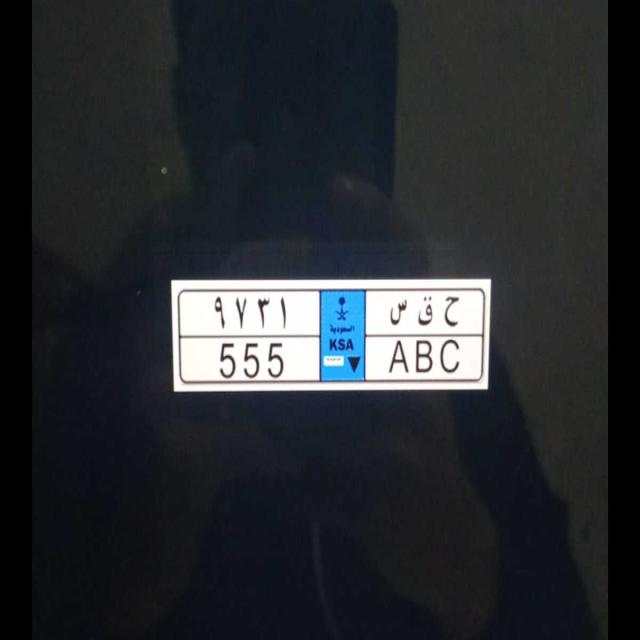license_plate: (184, 334, 477, 386)
